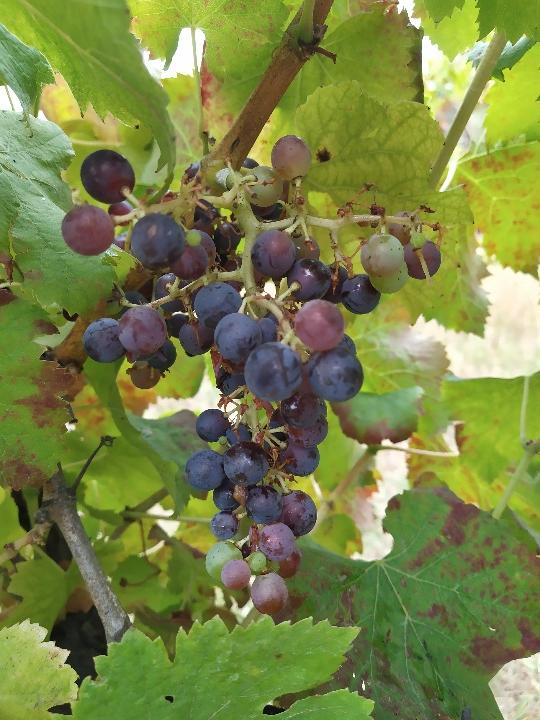grape: (60, 138, 444, 615)
